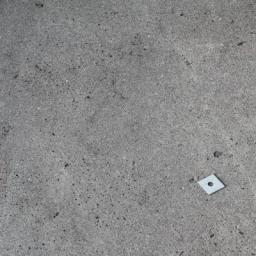FOD: (197, 171, 228, 198)
